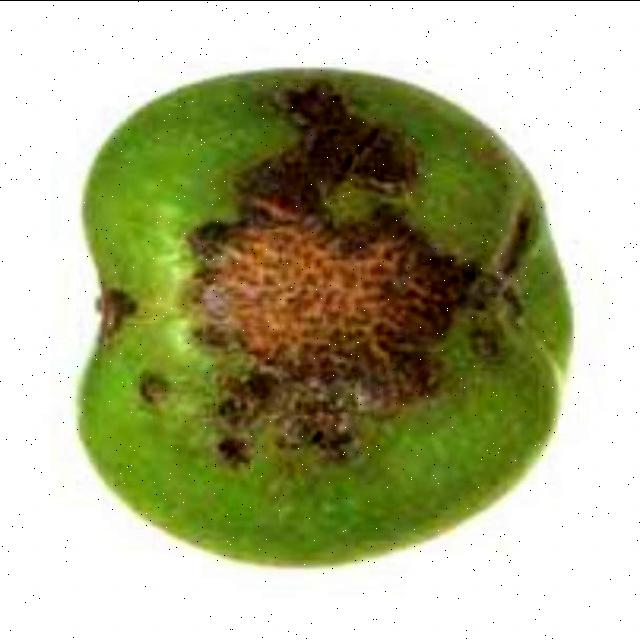SCAB: (72, 59, 578, 568)
